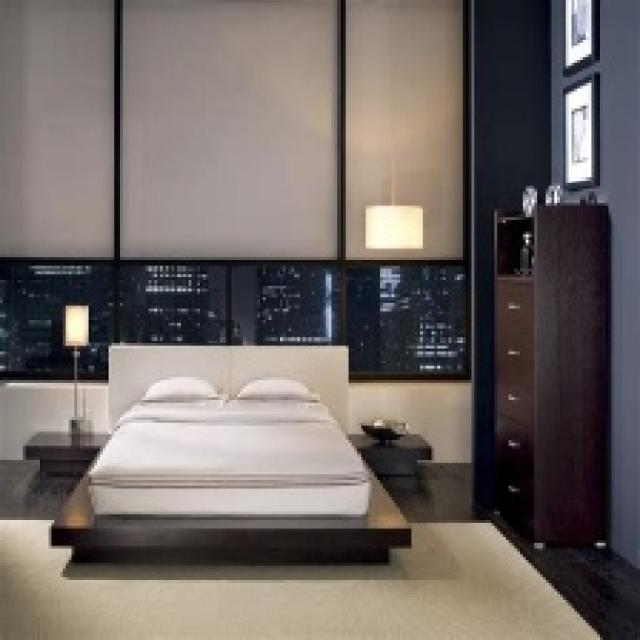Bed: (49, 343, 412, 563)
